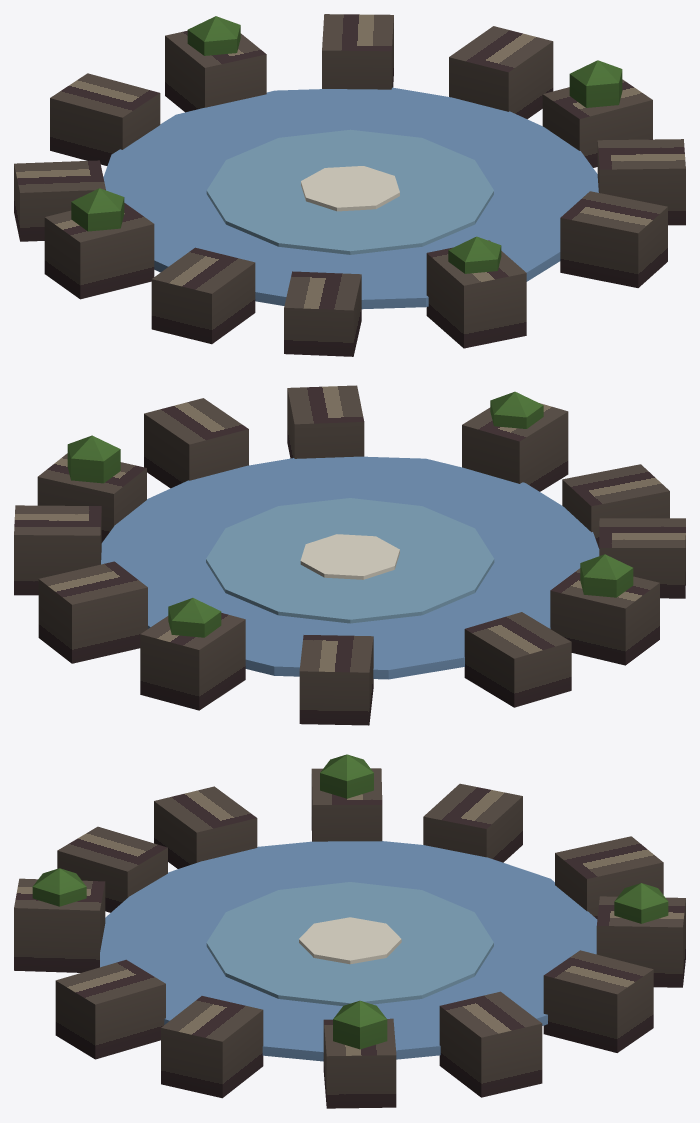
The model's file is spring_basin.glb.
3 views of the same model, one above another, from view 1: azimuth 30°, elevation 25°; view 2: azimuth 150°, elevation 25°; view 3: azimuth 270°, elevation 25° (orthographic).
Visible parts, largest first — view 1: spring_basin; view 2: spring_basin; view 3: spring_basin.
Boxes of the visible parts, x1,y1,x2,y2 form: spring_basin: [14, 14, 685, 356]; spring_basin: [14, 385, 685, 725]; spring_basin: [14, 754, 685, 1108].
Bounding box in the file's own units: 3.27 × 0.48 × 3.27.
3 materials, 1 textured.
